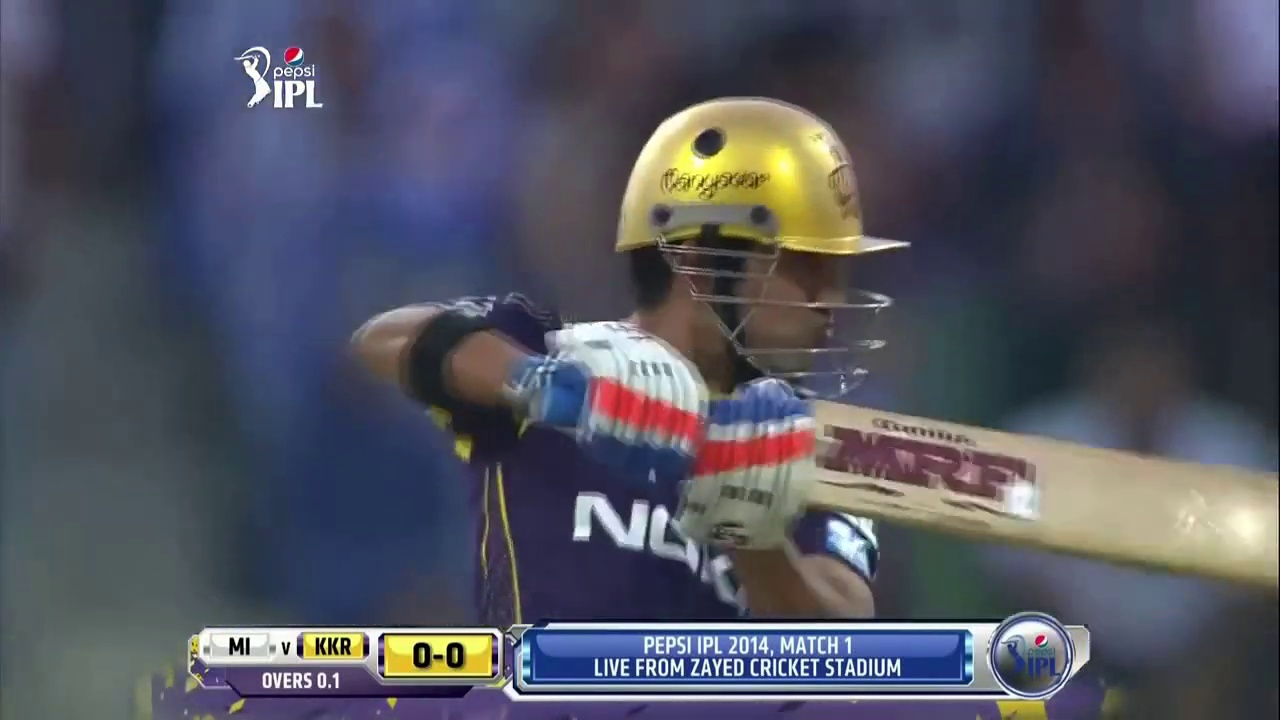bat: (818, 398, 1279, 596)
